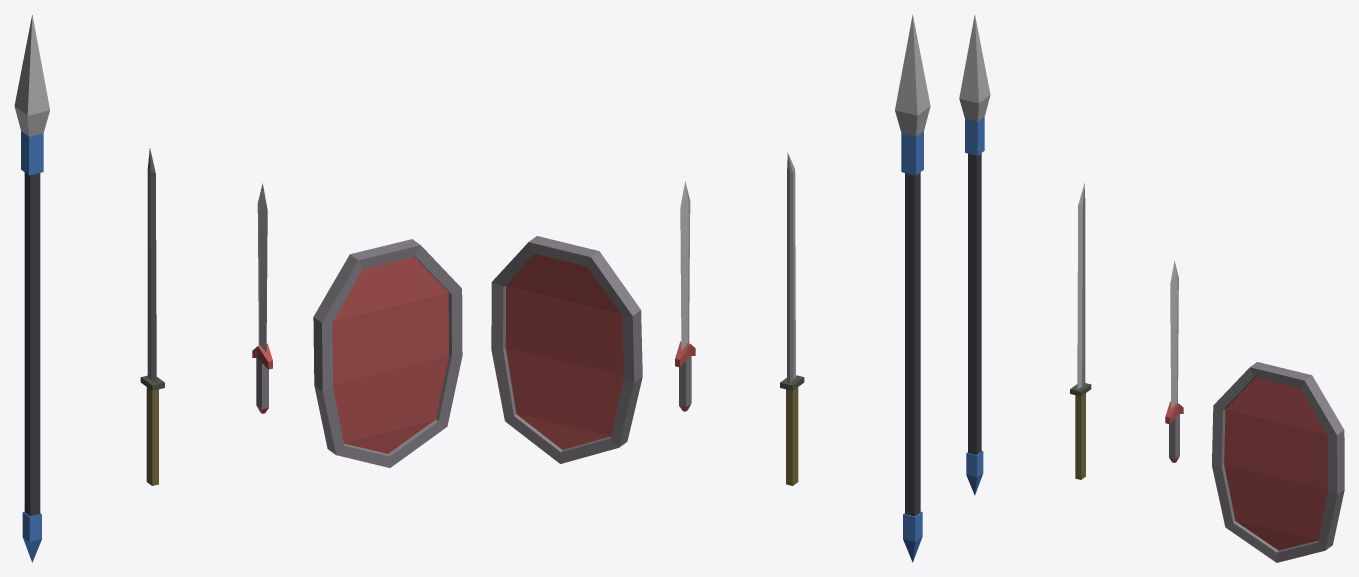
File: weapon.fbx
3 views of the same model, side by side, from view 1: azimuth 30°, elevation 25°; view 2: azimuth 150°, elevation 25°; view 3: azimuth 330°, elevation 25° (orthographic). The views are drawn at different scales.
Parts seen in each view (by area): view 1: shield, spear, sword, dagger; view 2: shield, spear, sword, dagger; view 3: shield, spear, sword, dagger.
Part boxes in pixels (bbox=[...]): shield: bbox=[313, 239, 462, 467]; spear: bbox=[14, 15, 49, 562]; sword: bbox=[140, 148, 164, 485]; dagger: bbox=[252, 183, 272, 413]; shield: bbox=[491, 236, 642, 463]; spear: bbox=[895, 14, 930, 562]; sword: bbox=[780, 152, 804, 485]; dagger: bbox=[675, 181, 695, 411]; shield: bbox=[1212, 362, 1344, 562]; spear: bbox=[959, 14, 990, 495]; sword: bbox=[1070, 183, 1091, 479]; dagger: bbox=[1165, 261, 1183, 462].
Size of the model in its own units: 217 by 263 by 14.59.
